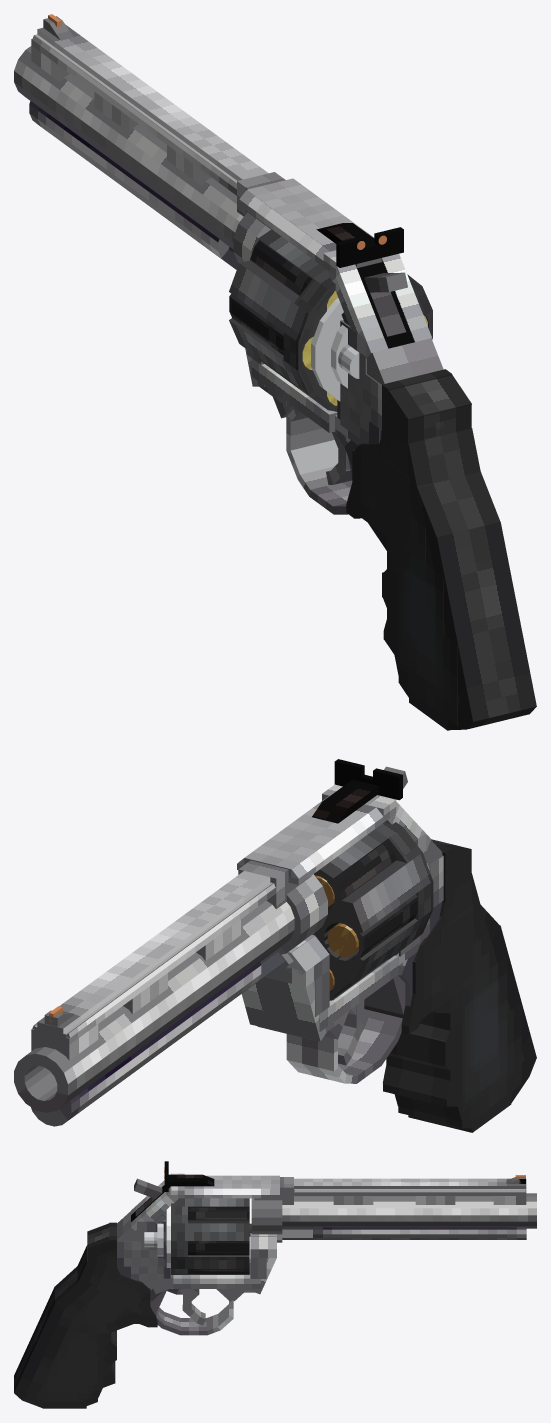
The picture shows the model from 3 angles, top to bottom: view 1: azimuth 30°, elevation 25°; view 2: azimuth 150°, elevation 25°; view 3: azimuth 270°, elevation 25°; orthographic projection. The views are drawn at different scales.
Visible parts, largest first — view 1: hexadecagon (×13), gr_cr_r_curve_c, gr_ma_base_bottom, v_ro_base_b, gr_cr_r_curve_e, gr_cr_r_curve_d, gr_ma_base_top, m_top_curve_r, gr_ma_base_middle, m_slope_curve_l, gr_cr_r_curve_f, m_slope_curve_m (+16 smaller); view 2: hexadecagon (×21), v_ro_base_b (×2), gr_ma_base_bottom, m_bd_slope_b, m_top_curve_r, v_ro_base_a (×2), gr_ma_base_middle, gr_ou_f_base, m_bd_base_b, gr_cr_r_curve_c, gr_ou_r_base_b, gr_ma_base_top (+31 smaller); view 3: hexadecagon (×17), gr_ma_base_bottom, v_ro_base_b (×2), gr_cr_r_curve_c, gr_cr_r_curve_e, v_ro_base_a (×2), gr_cr_r_curve_d, m_bd_base_b, m_bd_mid_base, m_top_curve_r, v_ro_curve_r, gr_cr_r_curve_f (+17 smaller).
Part boxes in pixels (<box>): hexadecagon (×13): <box>14,46,335,394</box>; gr_cr_r_curve_c: <box>426,522,536,722</box>; gr_ma_base_bottom: <box>398,545,443,714</box>; v_ro_base_b: <box>37,24,268,180</box>; gr_cr_r_curve_e: <box>359,428,480,531</box>; gr_cr_r_curve_d: <box>417,471,500,537</box>; gr_ma_base_top: <box>382,400,471,475</box>; m_top_curve_r: <box>246,178,374,251</box>; gr_ma_base_middle: <box>377,453,409,552</box>; m_slope_curve_l: <box>327,264,388,358</box>; gr_cr_r_curve_f: <box>388,375,471,419</box>; m_slope_curve_m: <box>367,338,443,384</box>; hexadecagon (×21): <box>31,822,433,1124</box>; v_ro_base_b (×2): <box>37,871,270,1039</box>; gr_ma_base_bottom: <box>398,957,507,1127</box>; m_bd_slope_b: <box>241,977,331,1041</box>; m_top_curve_r: <box>244,795,375,876</box>; v_ro_base_a (×2): <box>31,860,311,1044</box>; gr_ma_base_middle: <box>440,905,473,1005</box>; gr_ou_f_base: <box>386,990,462,1105</box>; m_bd_base_b: <box>319,955,398,1031</box>; gr_cr_r_curve_c: <box>489,925,536,1080</box>; gr_ou_r_base_b: <box>412,944,440,1023</box>; gr_ma_base_top: <box>431,839,471,924</box>; hexadecagon (×17): <box>171,1196,536,1268</box>; gr_ma_base_bottom: <box>47,1324,97,1401</box>; v_ro_base_b (×2): <box>294,1178,526,1204</box>; gr_cr_r_curve_c: <box>14,1286,73,1397</box>; gr_cr_r_curve_e: <box>77,1245,142,1321</box>; v_ro_base_a (×2): <box>254,1177,526,1204</box>; gr_cr_r_curve_d: <box>55,1266,100,1318</box>; m_bd_base_b: <box>173,1259,260,1288</box>; m_bd_mid_base: <box>117,1241,165,1266</box>; m_top_curve_r: <box>184,1175,279,1188</box>; v_ro_curve_r: <box>294,1189,525,1192</box>; gr_cr_r_curve_f: <box>87,1223,113,1258</box>.
Size of the model in its own units: 0.1438 by 0.4156 by 0.8571.
Materials: 1 (1 with a texture image).
